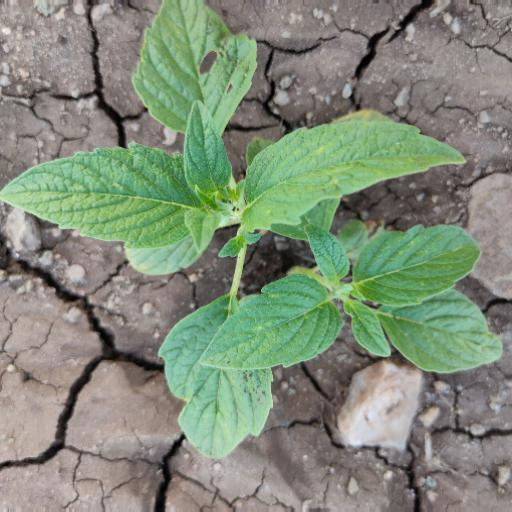crop: (2, 7, 504, 438)
